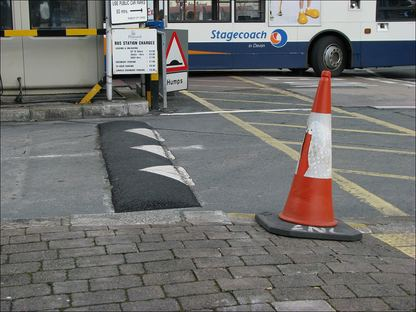bus: (143, 0, 416, 79)
